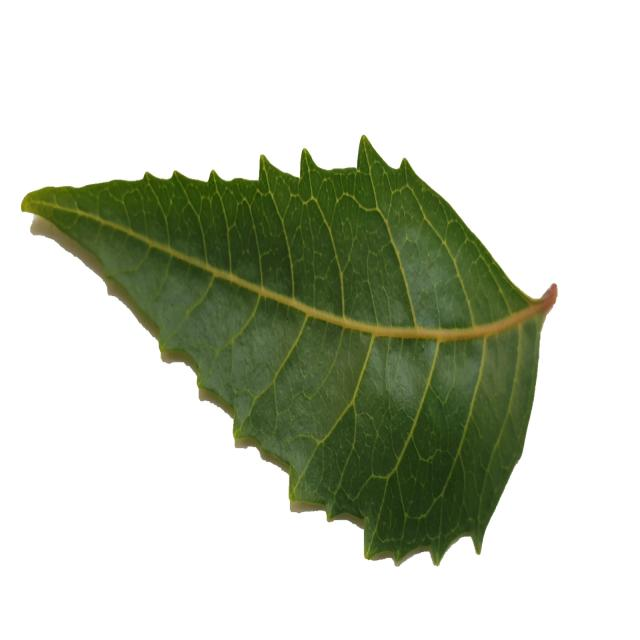Medicinal-Neem: (14, 127, 559, 567)
